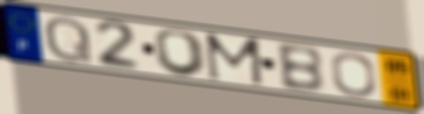2: (91, 19, 143, 70)
B: (274, 43, 328, 95)
M: (202, 31, 269, 89)
O: (153, 28, 211, 79), (329, 51, 378, 98)
Q: (43, 14, 96, 64)
